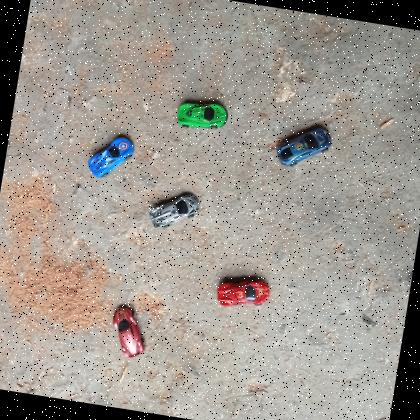Car: (276, 124, 332, 166), (88, 137, 134, 178), (112, 304, 146, 358), (149, 193, 201, 228), (216, 280, 270, 307), (177, 103, 228, 128)
